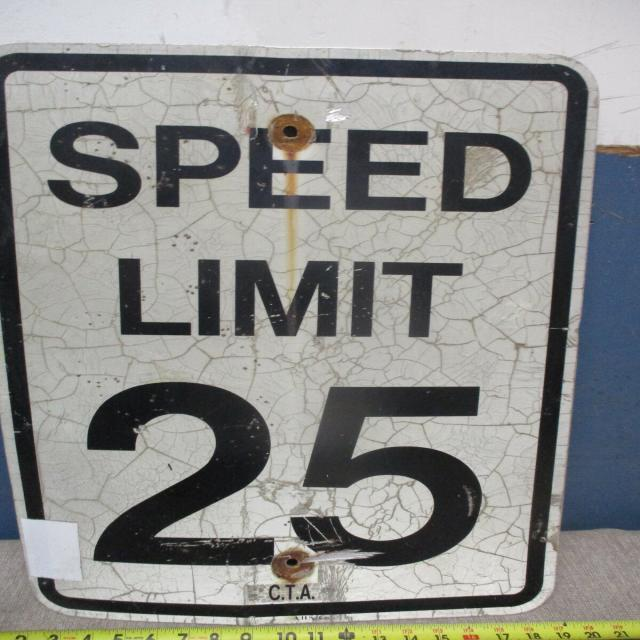speedLimit25: (1, 49, 598, 622)
